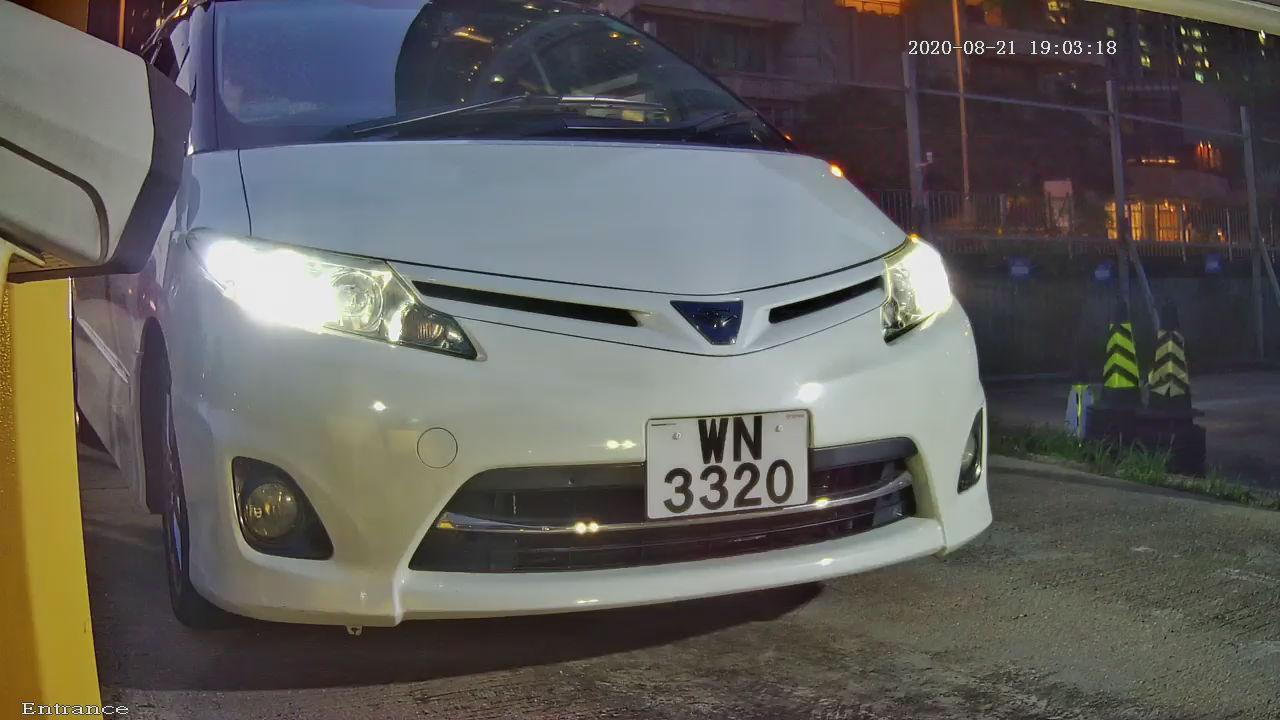License Plate: (623, 402, 829, 531)
